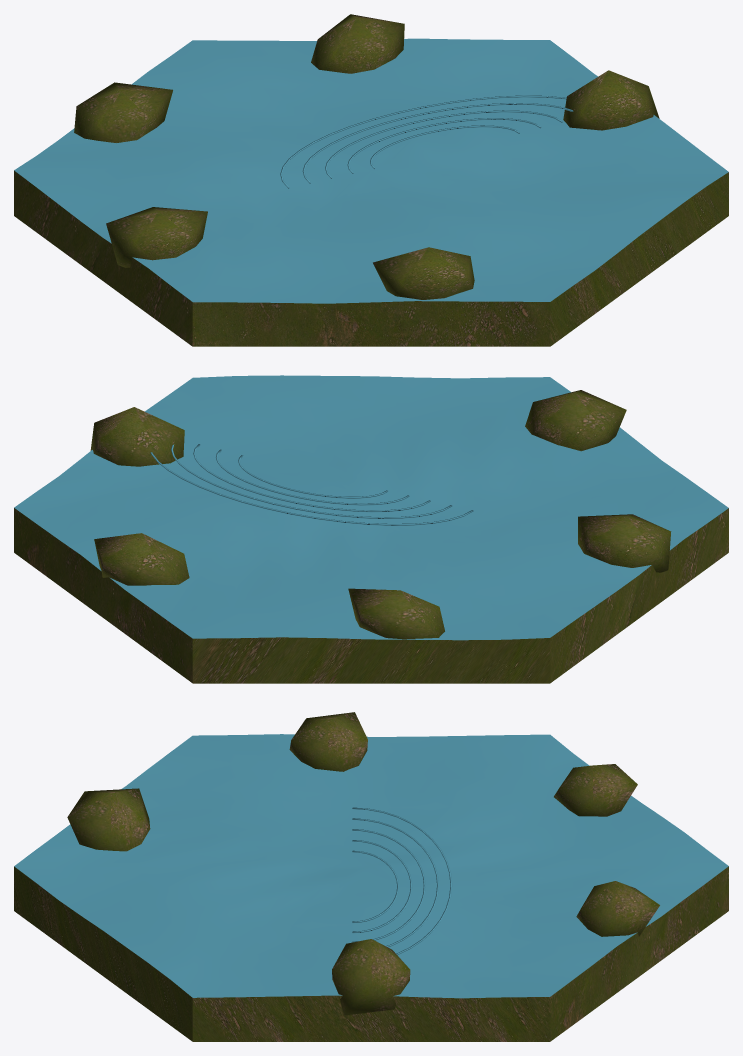
The model's file is env-terrain-lake-mobile.glb.
3 views of the same model, one above another, from view 1: azimuth 30°, elevation 25°; view 2: azimuth 150°, elevation 25°; view 3: azimuth 270°, elevation 25° (orthographic).
Parts seen in each view (by area): view 1: terrain lake · authored textured miniature; view 2: terrain lake · authored textured miniature; view 3: terrain lake · authored textured miniature.
Part boxes in pixels (x1=…): terrain lake · authored textured miniature: x1=14, y1=14, x2=728, y2=346; terrain lake · authored textured miniature: x1=14, y1=375, x2=728, y2=683; terrain lake · authored textured miniature: x1=14, y1=712, x2=728, y2=1041.
Bounding box in the file's own units: 1.68 × 0.2551 × 1.88.
Materials: 2 (1 with a texture image).
